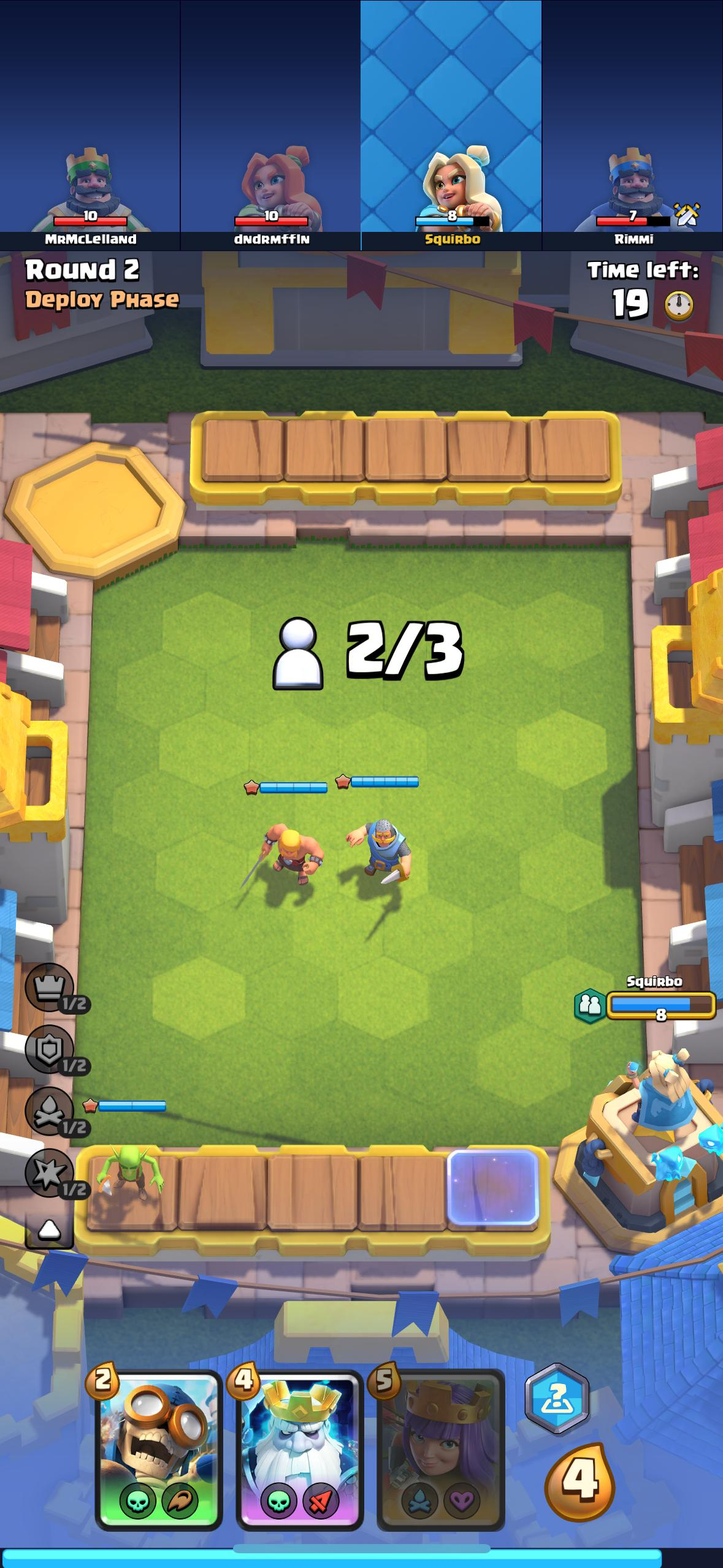barbarian: (248, 809, 327, 894)
goblin: (96, 1140, 167, 1211)
hand-bomber: (95, 1373, 218, 1524)
hand-ghost: (238, 1370, 364, 1527)
hand-queen: (377, 1375, 506, 1526)
knight: (343, 810, 416, 889)
